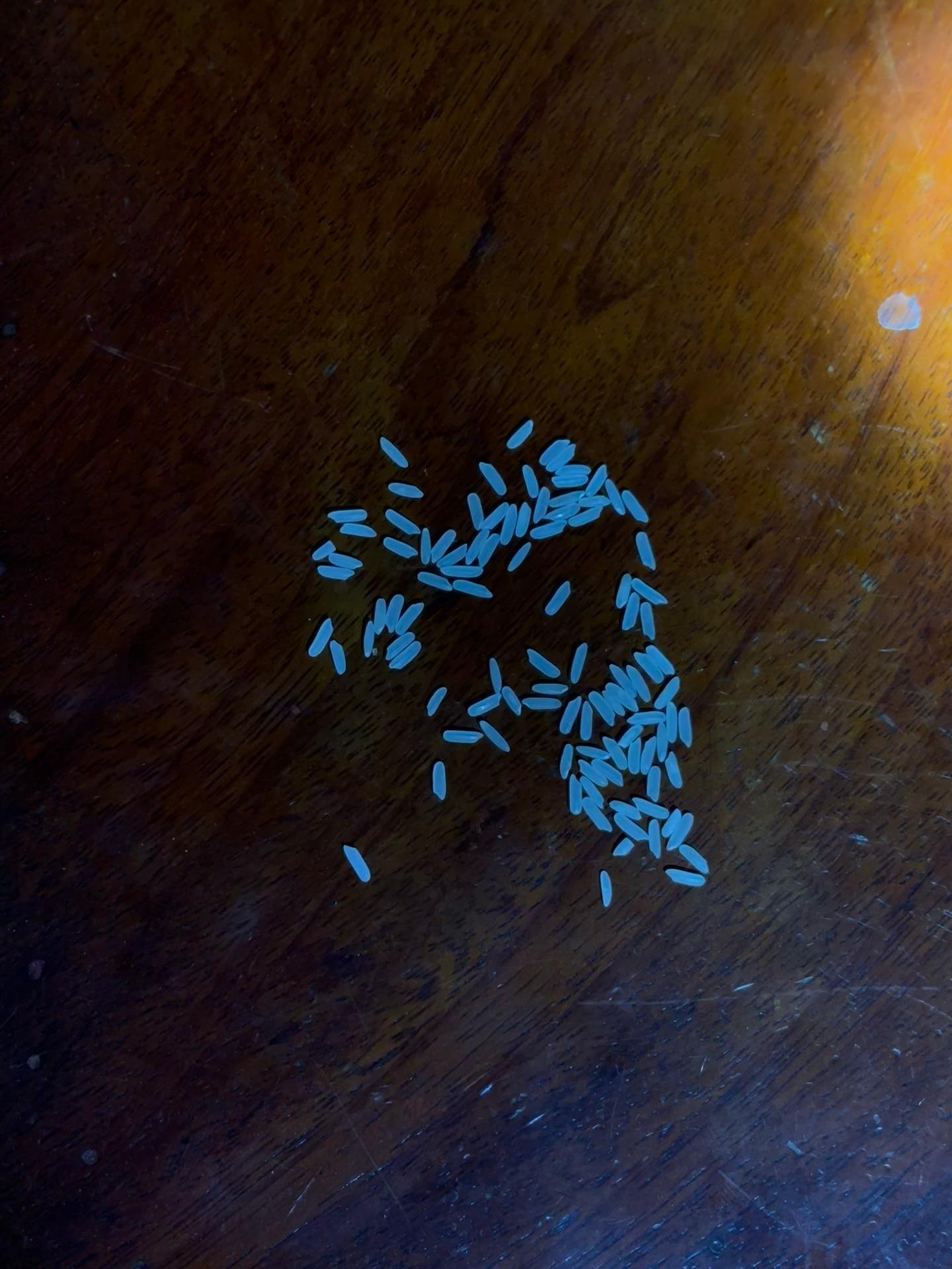Rice-th-y-nh: (581, 797, 613, 834), (525, 647, 562, 679), (342, 844, 372, 882), (478, 719, 511, 753), (388, 640, 423, 672), (381, 593, 409, 633), (394, 601, 425, 637), (608, 663, 638, 700), (543, 580, 573, 617), (308, 618, 335, 658), (442, 723, 482, 750), (631, 577, 668, 606), (633, 651, 665, 684), (496, 503, 520, 547), (626, 664, 653, 703), (557, 696, 584, 735), (452, 577, 494, 602), (667, 814, 694, 852), (563, 774, 588, 815), (614, 812, 648, 842), (478, 462, 508, 496), (605, 683, 639, 713), (429, 528, 457, 564), (462, 529, 490, 565), (567, 642, 591, 684), (673, 707, 698, 747), (678, 844, 710, 875), (383, 631, 416, 661), (653, 676, 681, 711), (621, 488, 649, 523), (588, 691, 616, 726), (427, 761, 452, 800), (467, 692, 503, 719), (379, 437, 409, 469), (591, 758, 624, 787), (385, 509, 420, 536), (575, 702, 599, 741), (646, 644, 676, 675), (436, 543, 468, 572), (538, 438, 570, 467), (632, 796, 669, 821), (554, 743, 579, 780), (636, 602, 660, 640), (547, 443, 577, 473), (326, 639, 351, 675), (479, 502, 510, 531), (577, 759, 608, 788), (579, 776, 606, 809), (602, 736, 628, 770), (637, 736, 659, 776), (483, 658, 508, 693), (634, 531, 657, 569), (441, 561, 484, 581), (583, 464, 609, 497), (416, 570, 453, 593), (568, 505, 605, 528), (367, 598, 390, 635), (507, 420, 535, 450), (465, 492, 487, 530), (620, 593, 642, 631), (382, 536, 418, 559), (477, 533, 501, 567), (604, 479, 626, 516), (531, 486, 552, 524), (415, 527, 436, 565), (613, 573, 635, 609), (507, 542, 533, 572), (523, 694, 562, 714), (530, 519, 567, 540), (358, 621, 379, 658), (665, 868, 705, 887), (531, 679, 569, 699), (628, 708, 666, 728), (425, 686, 449, 717), (500, 685, 524, 716), (664, 751, 684, 788), (624, 738, 644, 775), (662, 702, 680, 743), (546, 501, 581, 522), (328, 550, 363, 571), (609, 799, 642, 821), (339, 521, 377, 540), (549, 489, 585, 509), (387, 481, 424, 500), (328, 507, 367, 525), (601, 689, 626, 717), (514, 502, 533, 538), (521, 464, 541, 498), (617, 723, 643, 749), (317, 564, 354, 582), (647, 820, 664, 859), (552, 472, 588, 490), (645, 766, 663, 802), (654, 723, 671, 761), (575, 743, 610, 761), (661, 809, 682, 838), (555, 463, 591, 479), (598, 871, 614, 906), (579, 493, 611, 510), (311, 540, 336, 561), (613, 838, 634, 858)
